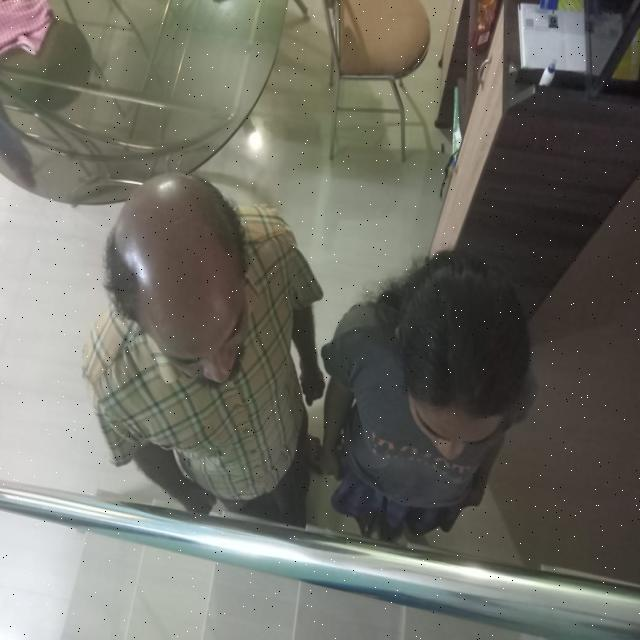humans: (79, 164, 327, 510), (313, 241, 548, 543)
